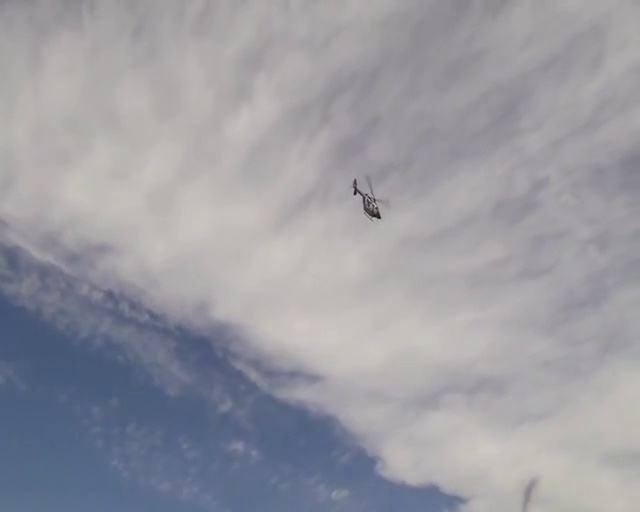HELICOPTER: (352, 175, 387, 221)
